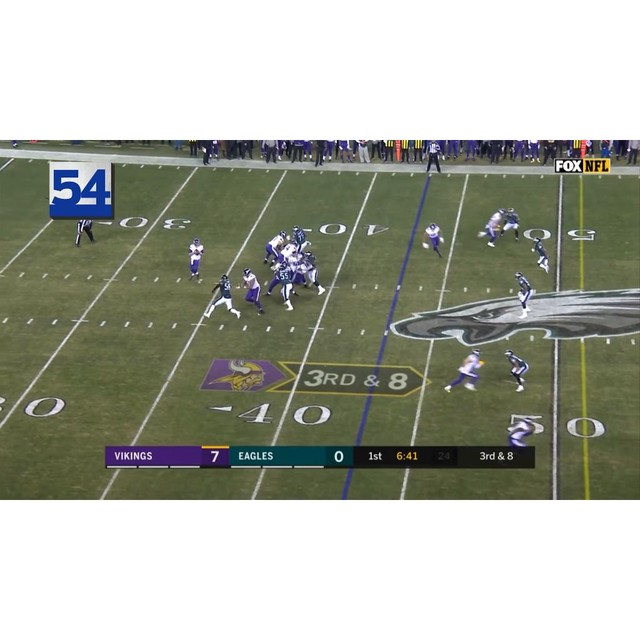american-football-player: (444, 348, 484, 393), (206, 273, 242, 319), (270, 262, 296, 310), (239, 267, 265, 314), (476, 209, 505, 247), (506, 414, 538, 447), (505, 348, 529, 392), (301, 253, 326, 295), (514, 271, 534, 318), (263, 231, 287, 265), (188, 237, 206, 282), (499, 208, 521, 242), (423, 222, 443, 259), (531, 237, 550, 273)
referee: (75, 218, 97, 247), (425, 140, 443, 174)
